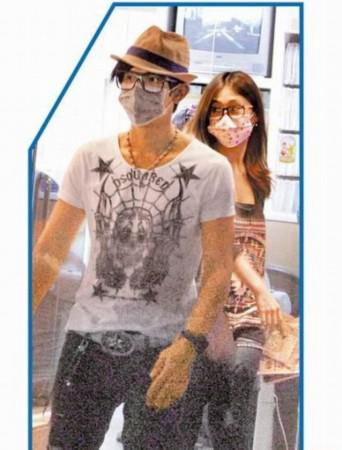OK: (119, 68, 176, 126), (209, 99, 252, 147)
